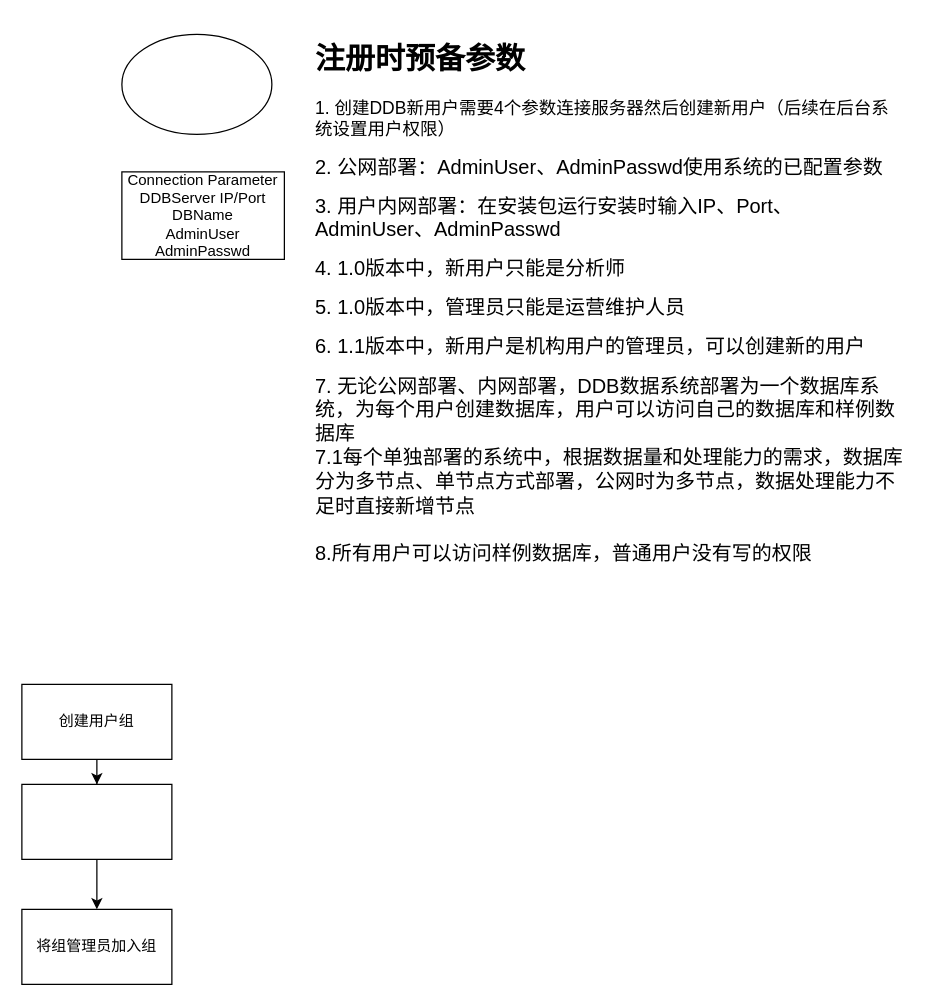
The diagram is 931 pixels wide and 1006 high, and some of its shapes have lost their labels. The centre of each missing label's shape, as x and y in pixels:
"创建用户组的管理员" belongs at [96,821].
"开始注册" belongs at [196,83].
